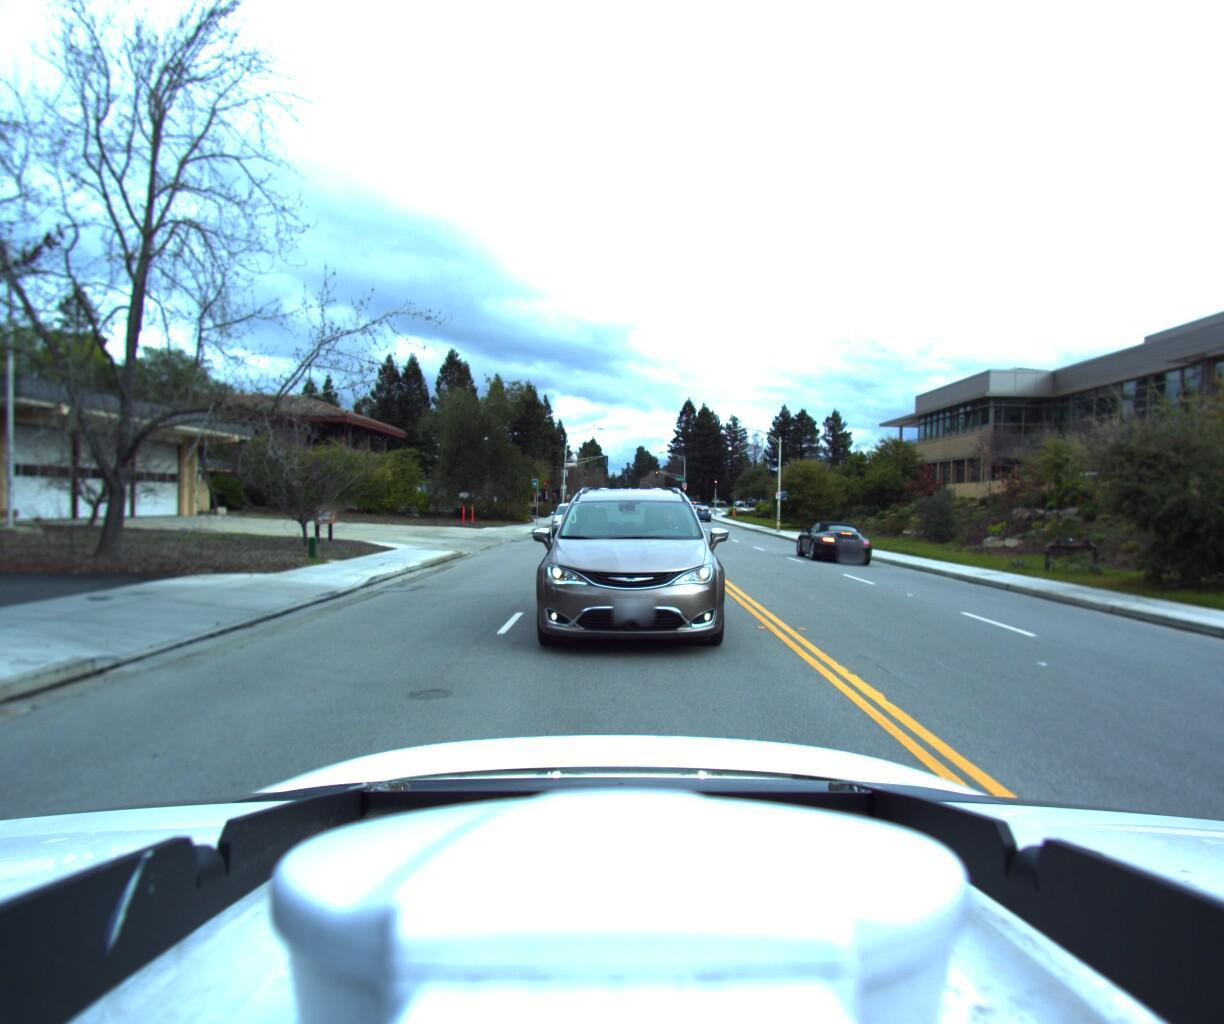car: (493, 455, 755, 671), (789, 518, 867, 564), (549, 499, 594, 537), (684, 503, 712, 521)
